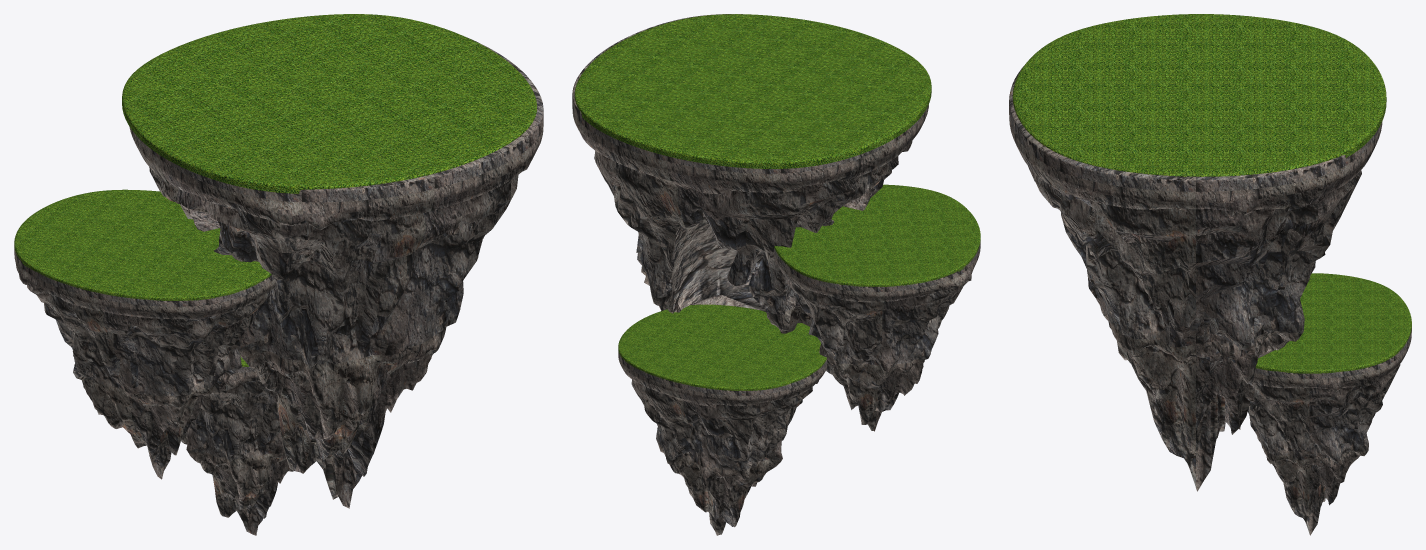
File: floating_islandgreen.glb
3 renders of one model, left to right at view 1: azimuth 30°, elevation 25°; view 2: azimuth 150°, elevation 25°; view 3: azimuth 270°, elevation 25°, orthographic. The views are drawn at different scales.
Visible parts, largest first — view 1: Object_7, Object_2, Object_6, Object_3, Object_5; view 2: Object_2, Object_7, Object_5, Object_6, Object_3, Object_4; view 3: Object_7, Object_2, Object_5, Object_4.
Part boxes in pixels (x1,y1,x2,y2): Object_7: (129, 37, 543, 508); Object_2: (122, 14, 537, 193); Object_6: (14, 248, 275, 479); Object_3: (14, 189, 271, 300); Object_5: (181, 366, 293, 535); Object_2: (574, 14, 931, 168); Object_7: (572, 14, 928, 333); Object_5: (618, 350, 827, 535); Object_6: (773, 241, 980, 431); Object_3: (774, 184, 980, 286); Object_4: (618, 304, 826, 390); Object_7: (1009, 66, 1382, 491); Object_2: (1012, 14, 1386, 176); Object_5: (1242, 327, 1411, 535); Object_4: (1255, 273, 1411, 373).
Size of the model in its own units: 61.24 by 61.08 by 49.6.
6 materials, 6 textured.
